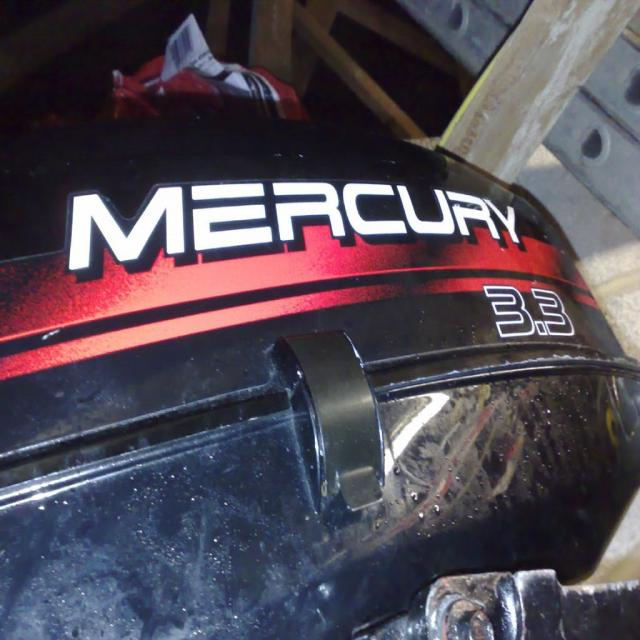other: (0, 130, 639, 639)
